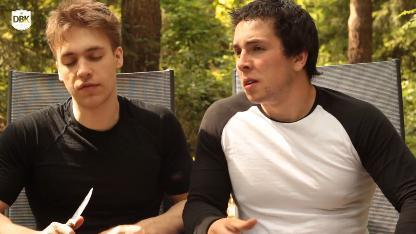knife: (50, 179, 100, 233)
